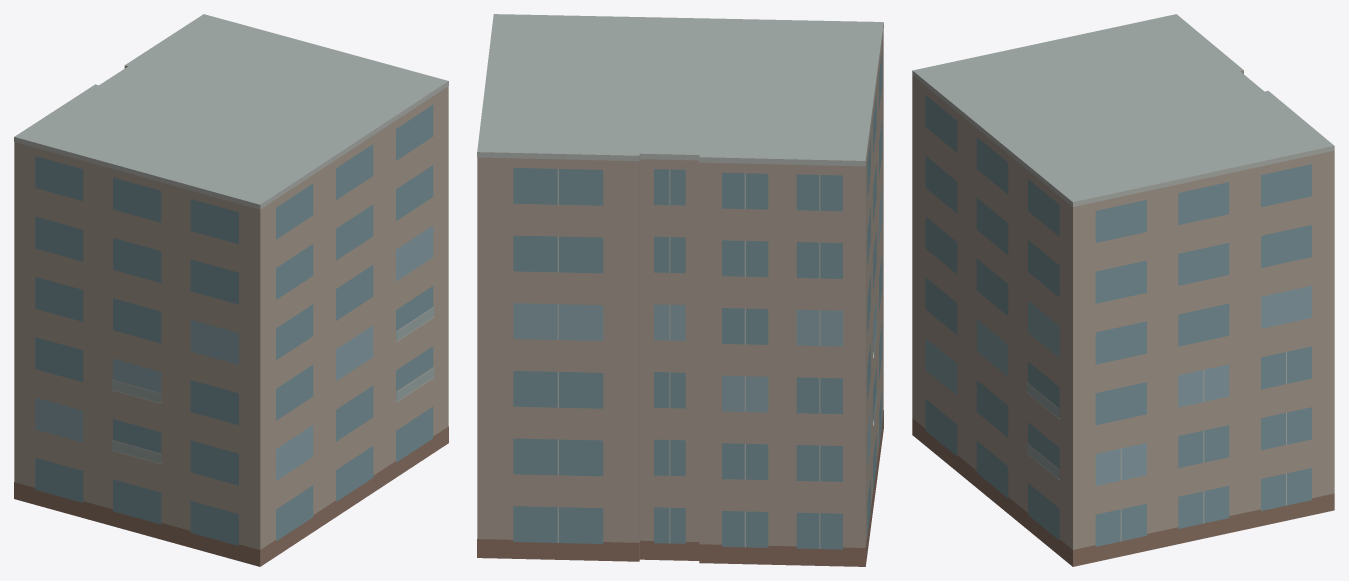
File: survey-upis-32838679.glb
3 renders of one model, left to right at view 1: azimuth 30°, elevation 25°; view 2: azimuth 150°, elevation 25°; view 3: azimuth 270°, elevation 25°, orthographic. The views are drawn at different scales.
Parts seen in each view (by area): view 1: survey-upis-32838679.tmp; view 2: survey-upis-32838679.tmp; view 3: survey-upis-32838679.tmp.
Part boxes in pixels (x1,y1,x2,y2): survey-upis-32838679.tmp: (14,14,448,566); survey-upis-32838679.tmp: (477,14,883,566); survey-upis-32838679.tmp: (912,14,1334,566).
Bounding box in the file's own units: 20.28 × 18.3 × 19.21.
